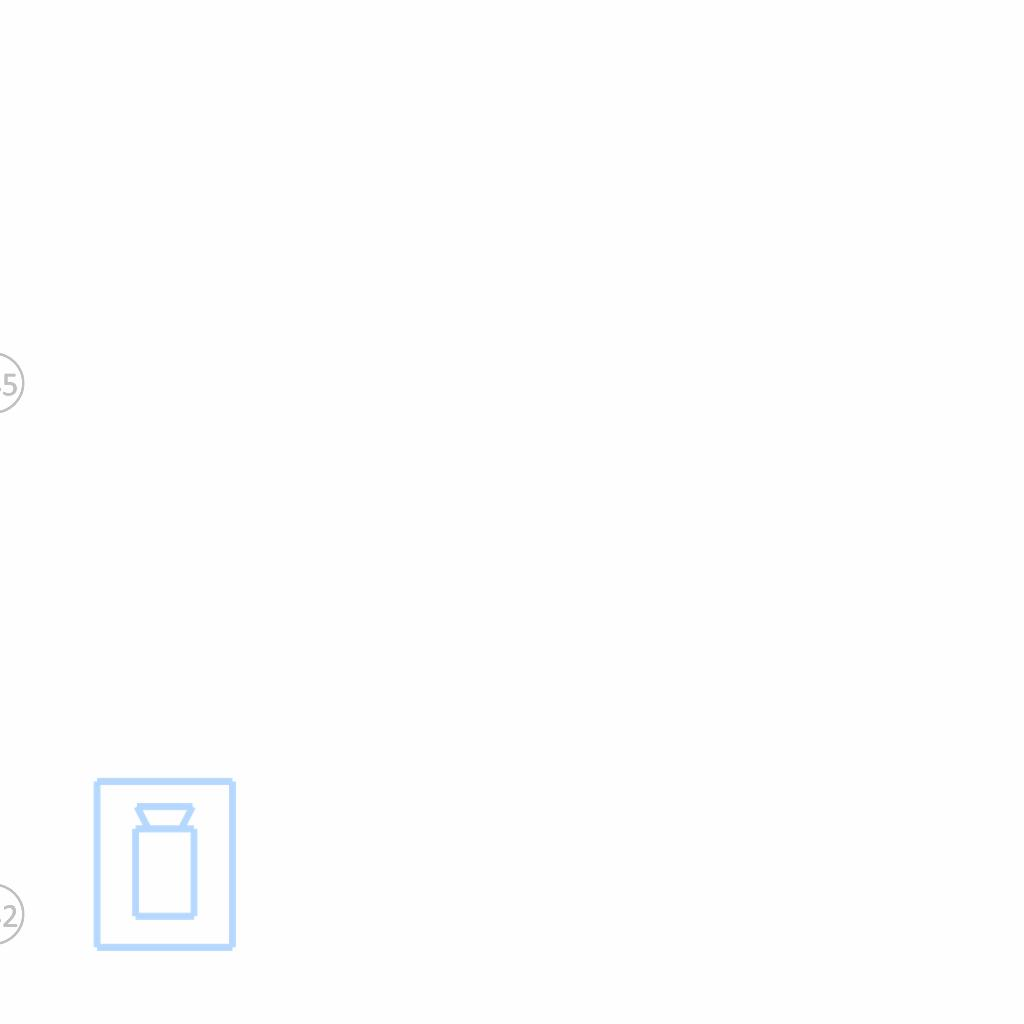KFO_Kamera_mit_Festobjektiv: (89, 774, 243, 956)
